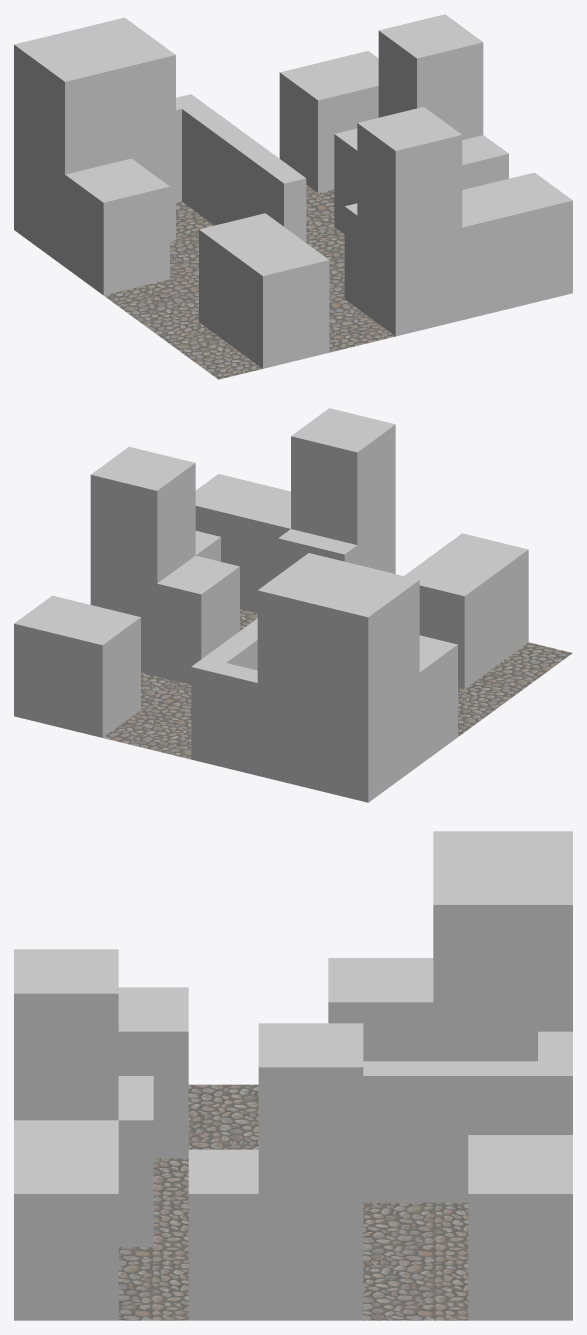
File: tile2.fbx
3 renders of one model, top to bottom at view 1: azimuth 30°, elevation 25°; view 2: azimuth 150°, elevation 25°; view 3: azimuth 270°, elevation 25°, orthographic. The views are drawn at different scales.
Parts seen in each view (by area): view 1: Tile 1; view 2: Tile 1; view 3: Tile 1.
Part boxes in pixels (x1=…): Tile 1: x1=14, y1=14, x2=572, y2=379; Tile 1: x1=14, y1=408, x2=572, y2=802; Tile 1: x1=14, y1=831, x2=572, y2=1320.
Size of the model in its own units: 1600 by 800 by 1600.
